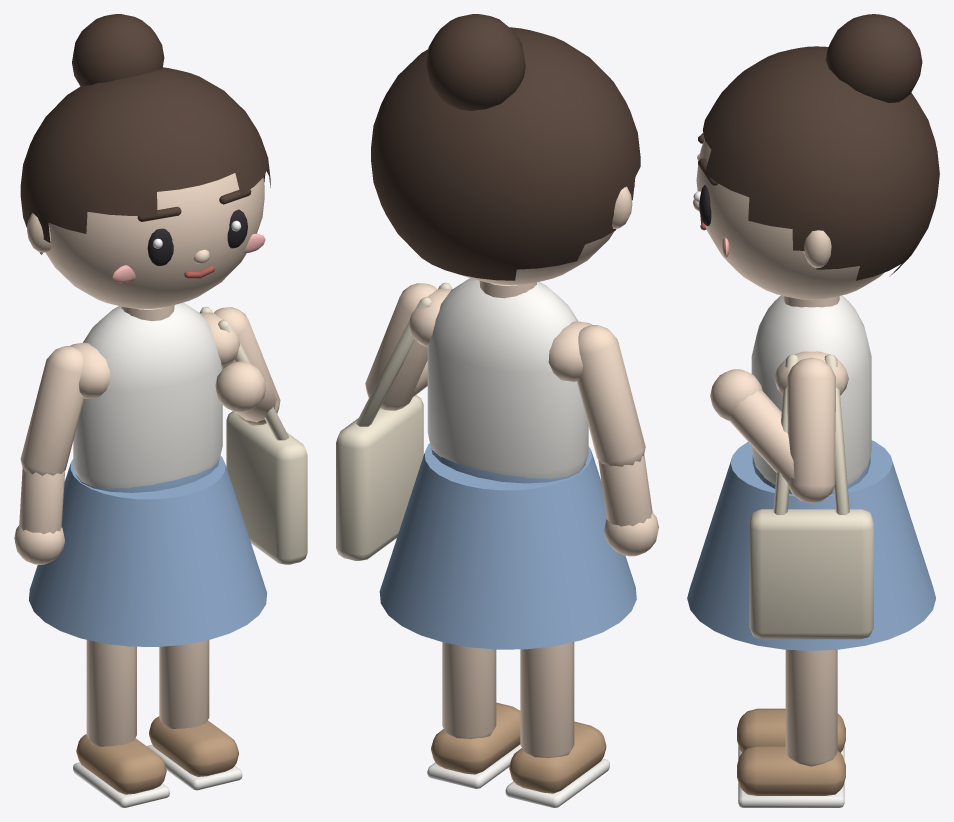
The model's file is Customer_Tote.fbx.
3 views of the same model, side by side, from view 1: azimuth 30°, elevation 25°; view 2: azimuth 150°, elevation 25°; view 3: azimuth 270°, elevation 25° (orthographic). The views are drawn at different scales.
Parts seen in each view (by area): view 1: Body.005, Head.005, Leg_L.005, Arm_L.005, Leg_R.005, Arm_R.005; view 2: Body.005, Head.005, Leg_L.005, Arm_L.005, Leg_R.005, Arm_R.005; view 3: Head.005, Body.005, Leg_R.005, Arm_R.005, Leg_L.005.
Boxes of the visible parts, bbox=[...] form: Body.005: bbox=[29, 302, 307, 646]; Head.005: bbox=[20, 14, 270, 309]; Leg_L.005: bbox=[73, 640, 169, 807]; Arm_L.005: bbox=[14, 346, 84, 564]; Leg_R.005: bbox=[147, 640, 242, 790]; Arm_R.005: bbox=[214, 307, 280, 425]; Body.005: bbox=[336, 278, 636, 649]; Head.005: bbox=[371, 14, 640, 285]; Leg_L.005: bbox=[505, 642, 609, 807]; Arm_L.005: bbox=[577, 325, 658, 556]; Leg_R.005: bbox=[427, 642, 521, 788]; Arm_R.005: bbox=[365, 283, 437, 410]; Head.005: bbox=[693, 14, 939, 299]; Body.005: bbox=[687, 295, 935, 650]; Leg_R.005: bbox=[737, 649, 845, 807]; Arm_R.005: bbox=[710, 357, 835, 503]; Leg_L.005: bbox=[737, 708, 845, 760].
Bounding box in the file's own units: 0.5169 × 1.35 × 0.406.
